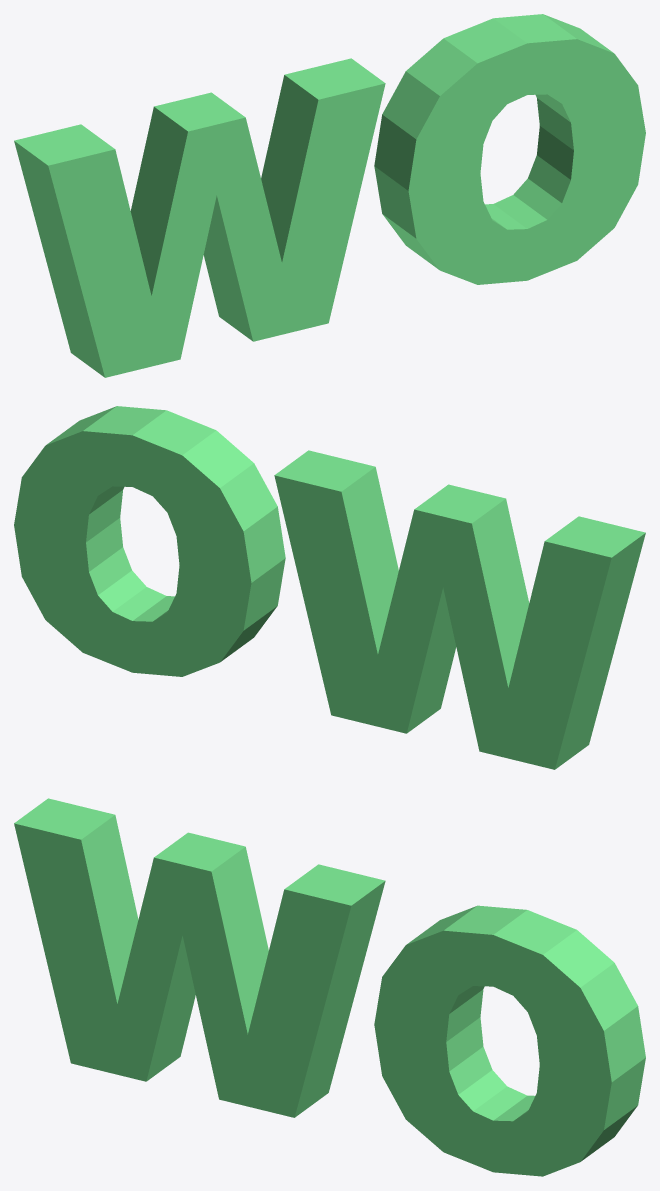
The model's file is suku_kecil_wo.glb.
3 renders of one model, top to bottom at view 1: azimuth 30°, elevation 25°; view 2: azimuth 150°, elevation 25°; view 3: azimuth 330°, elevation 25°, orthographic.
Visible parts, largest first — view 1: geometry_0; view 2: geometry_0; view 3: geometry_0.
Part boxes in pixels (box(x1,y1,x2,y2)): geometry_0: box(14, 14, 645, 377); geometry_0: box(14, 406, 645, 769); geometry_0: box(14, 798, 645, 1176).
Bounding box in the file's own units: 15.13 × 5.74 × 1.5.
